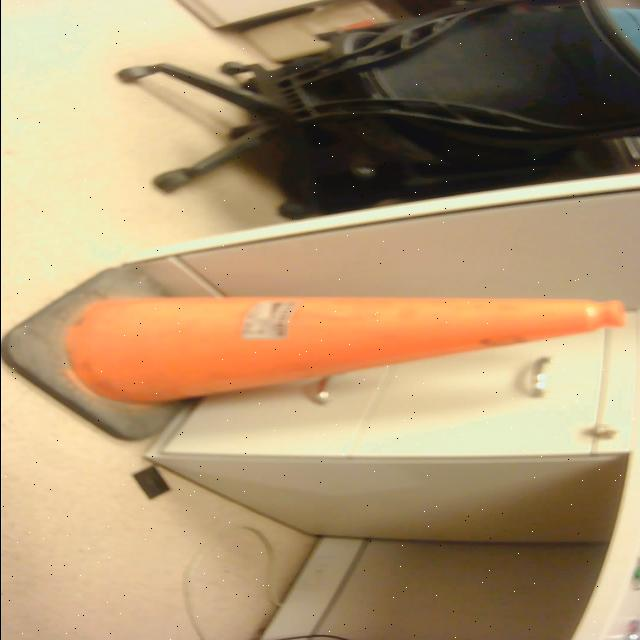traffic cone: (1, 259, 635, 446)
